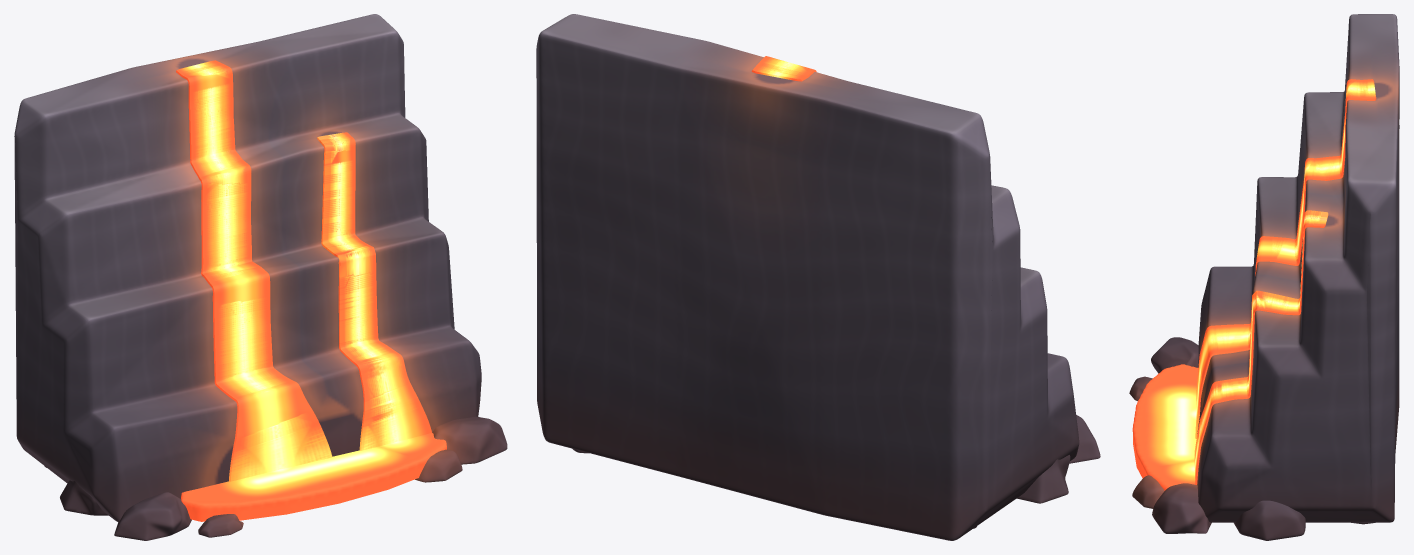
File: EF_B06_LavafallCliff.fbx
3 views of the same model, side by side, from view 1: azimuth 30°, elevation 25°; view 2: azimuth 150°, elevation 25°; view 3: azimuth 270°, elevation 25° (orthographic). The views are drawn at different scales.
Parts seen in each view (by area): view 1: Rock_LOD0, Lava_Flow_01_LOD0, Lava_Flow_02_LOD0, Lava_Pool_LOD0; view 2: Rock_LOD0, Lava_Flow_01_LOD0; view 3: Rock_LOD0, Lava_Pool_LOD0, Lava_Flow_01_LOD0, Lava_Flow_02_LOD0.
Part boxes in pixels (x1,y1,x2,y2): Rock_LOD0: [14, 14, 507, 540]; Lava_Flow_01_LOD0: [176, 60, 332, 481]; Lava_Flow_02_LOD0: [317, 132, 431, 450]; Lava_Pool_LOD0: [181, 433, 446, 521]; Rock_LOD0: [536, 14, 1100, 540]; Lava_Flow_01_LOD0: [751, 56, 816, 81]; Rock_LOD0: [1129, 14, 1399, 540]; Lava_Pool_LOD0: [1132, 364, 1198, 490]; Lava_Flow_01_LOD0: [1195, 79, 1376, 438]; Lava_Flow_02_LOD0: [1194, 210, 1328, 484].
Size of what is drawn, in the model's own units: 24 by 20 by 14.
